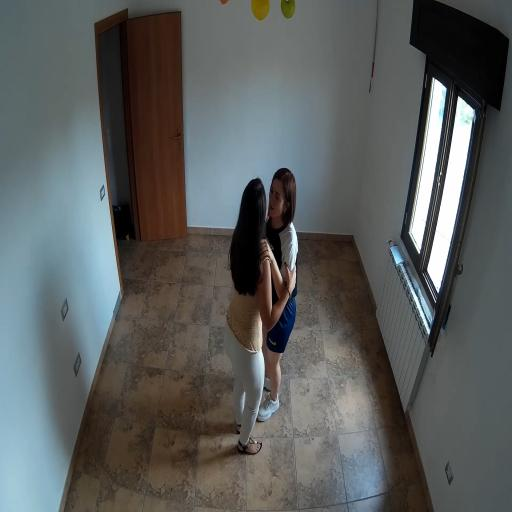nao-violencia: (209, 163, 304, 463)
